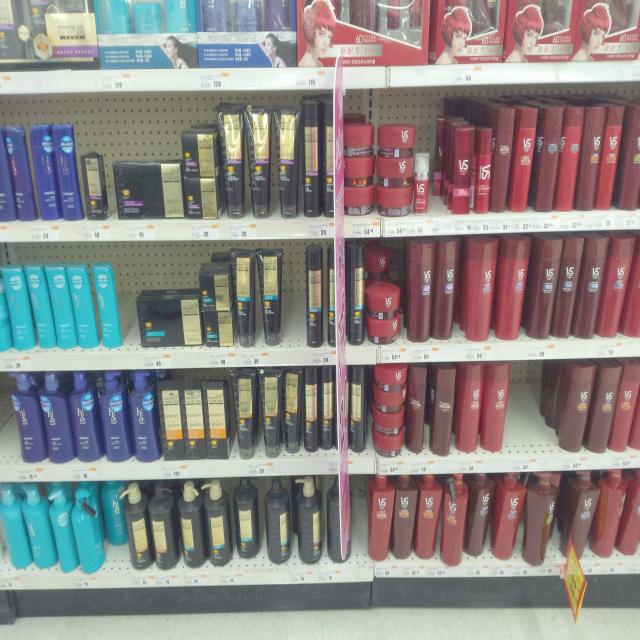empty_space: (283, 266, 309, 342), (512, 368, 536, 450), (119, 268, 137, 348), (0, 389, 16, 460)
